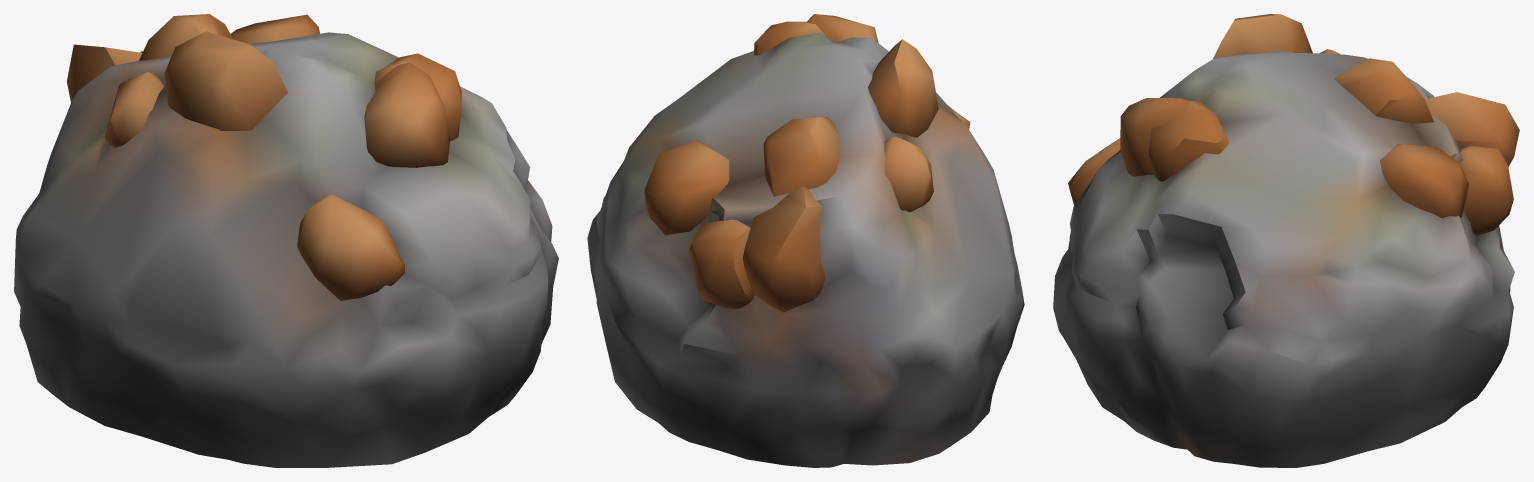
Rendered from cave-oreCopper-v2.glb.
3 renders of one model, left to right at view 1: azimuth 30°, elevation 25°; view 2: azimuth 150°, elevation 25°; view 3: azimuth 270°, elevation 25°, orthographic. The views are drawn at different scales.
Visible parts, largest first — view 1: 0_vein; view 2: 0_vein; view 3: 0_vein.
Part boxes in pixels (x1,y1,x2,y2): 0_vein: (14, 14, 558, 467); 0_vein: (587, 14, 1024, 467); 0_vein: (1053, 14, 1519, 467).
Bounding box in the file's own units: 1.12 × 0.864 × 1.12.
